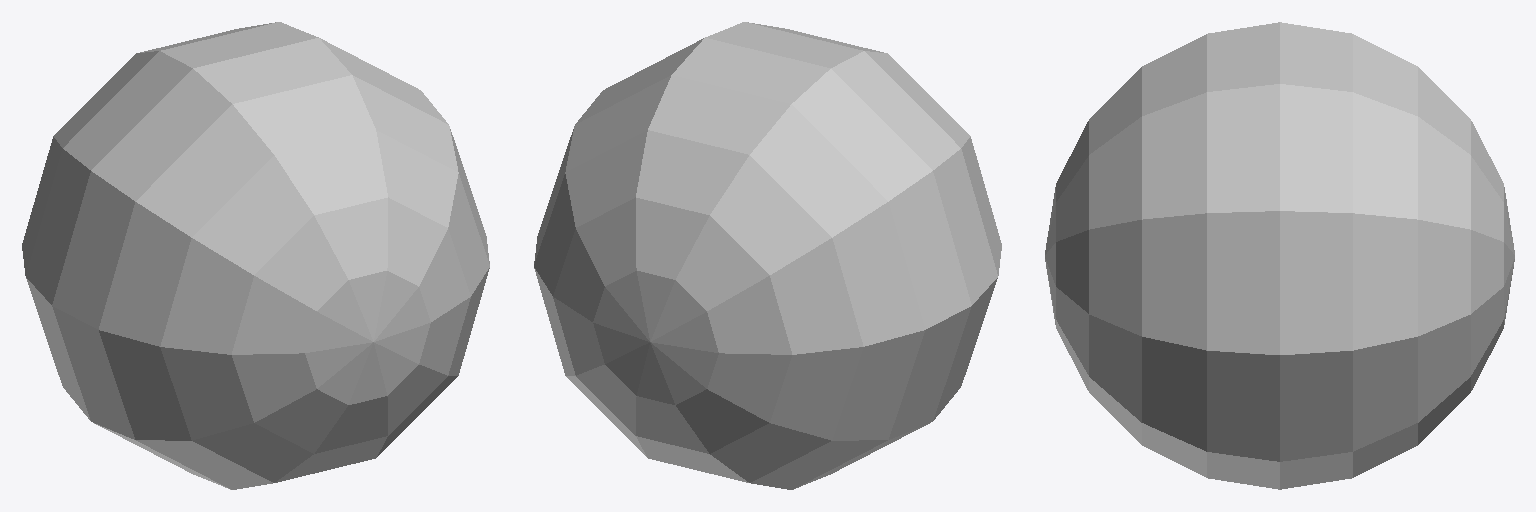
The model's file is slug1.obj.
3 views of the same model, side by side, from view 1: azimuth 30°, elevation 25°; view 2: azimuth 150°, elevation 25°; view 3: azimuth 270°, elevation 25° (orthographic).
Parts seen in each view (by area): view 1: pSphere1; view 2: pSphere1; view 3: pSphere1.
Part boxes in pixels (x1,y1,x2,y2): pSphere1: (22,22,489,489); pSphere1: (534,22,1001,489); pSphere1: (1045,22,1514,489).
Size of the model in its own units: 0.02 by 0.019 by 0.02.